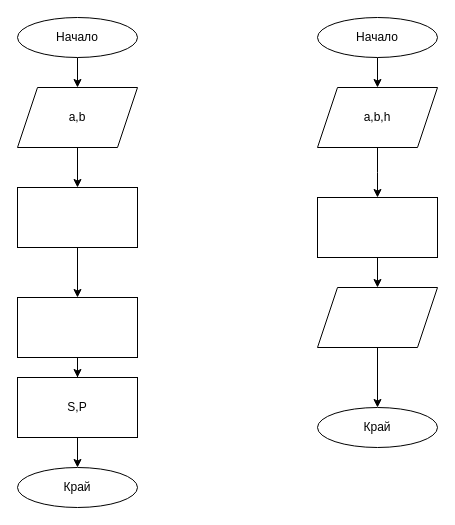
The diagram is 455 pixels wide and 525 high, and some of its shapes have lost their labels. The shapes that lost their labels are listed below. From the top down, each one's centre as x and y in pixels, then its label:
At point (77, 217): "P=2*a+2*b".
At point (377, 227): "S=(a+b)*h/2".
At point (77, 327): "S=a*b".
